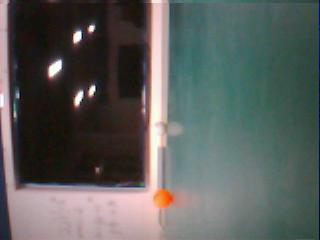oball: (151, 188, 173, 210)
